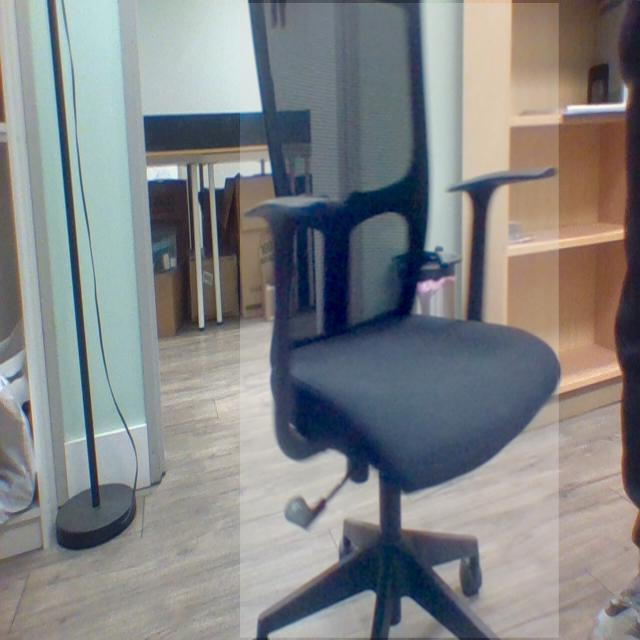chair: (240, 3, 560, 639)
